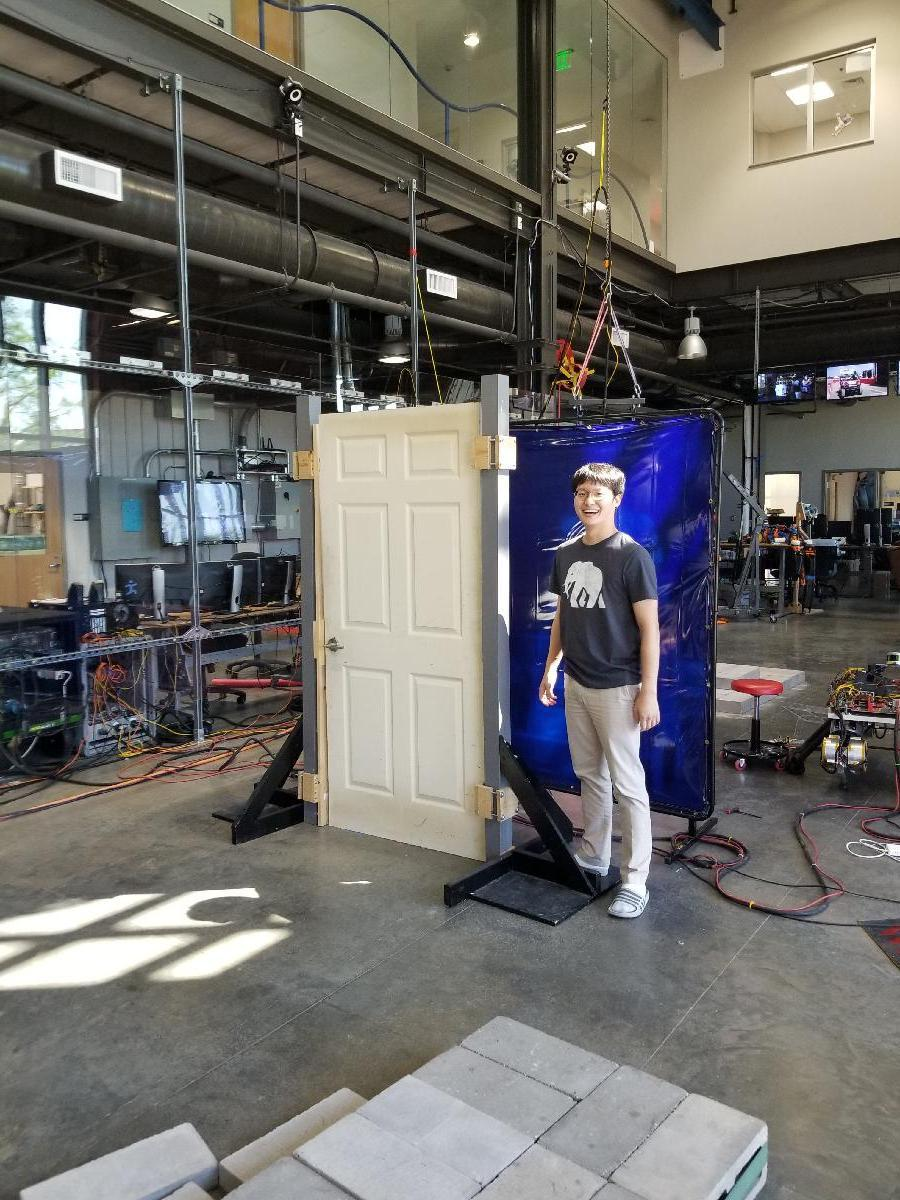door: (324, 393, 482, 851)
handle: (323, 637, 345, 653)
